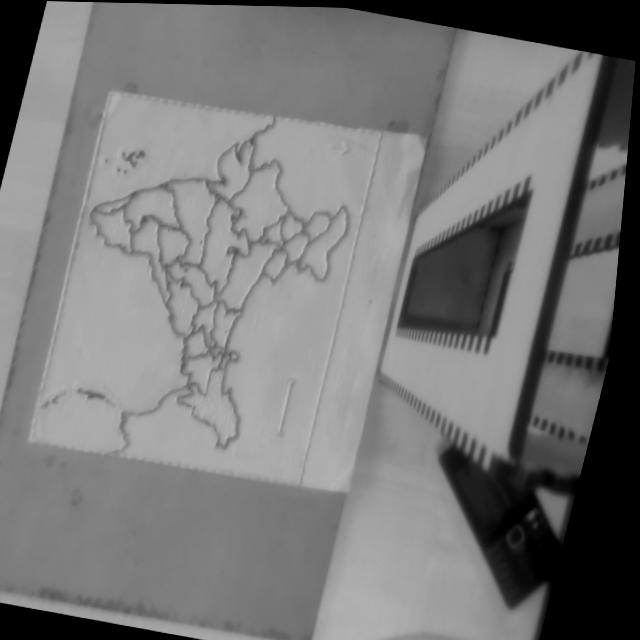map: (29, 70, 382, 502)
